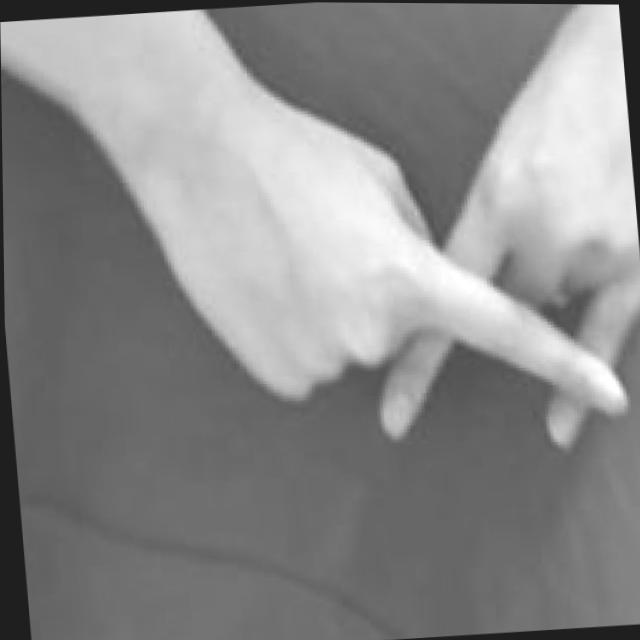H: (133, 49, 640, 485)
